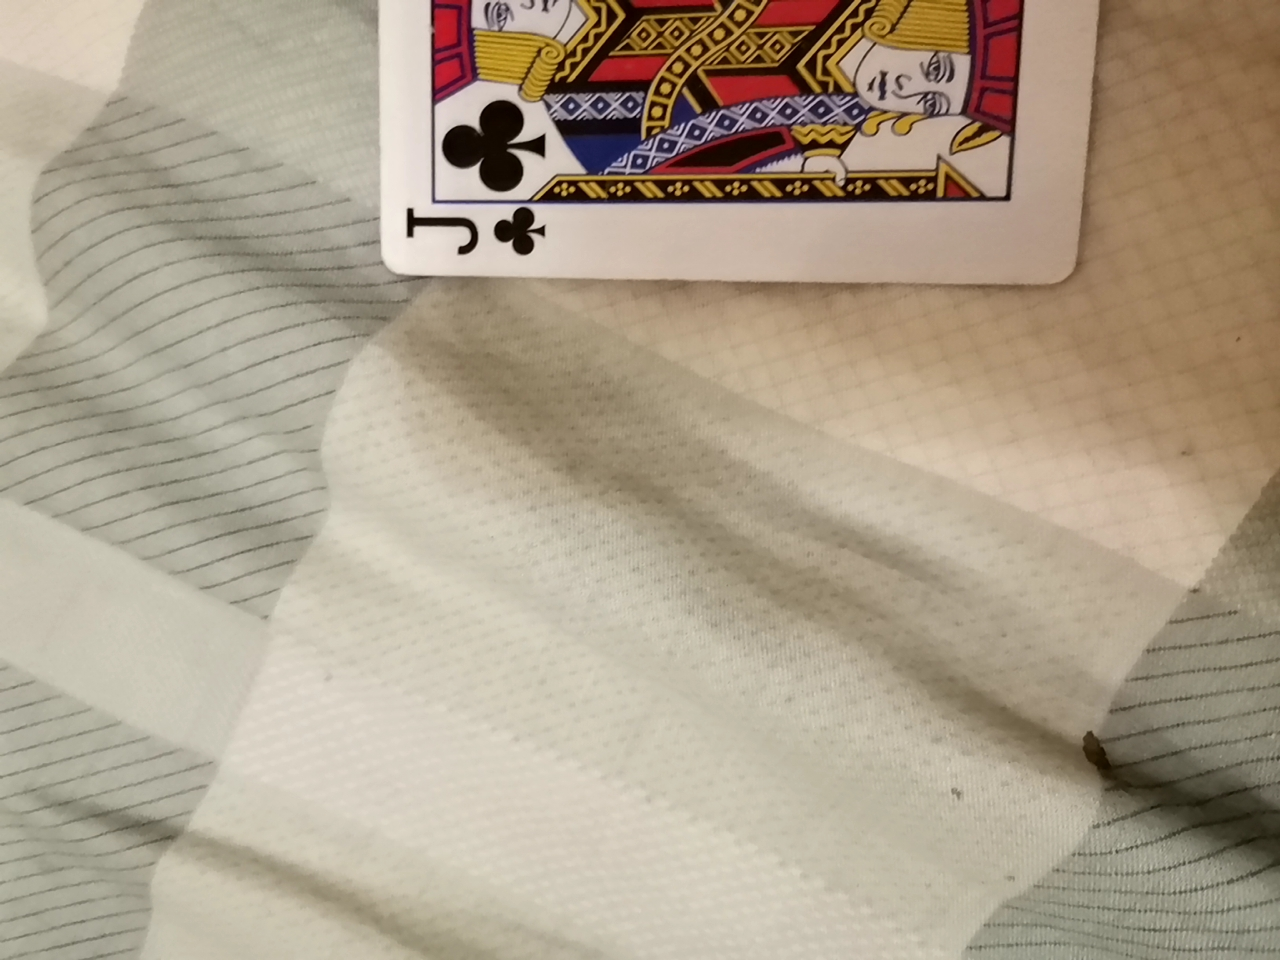mh j: (356, 0, 1093, 295)
